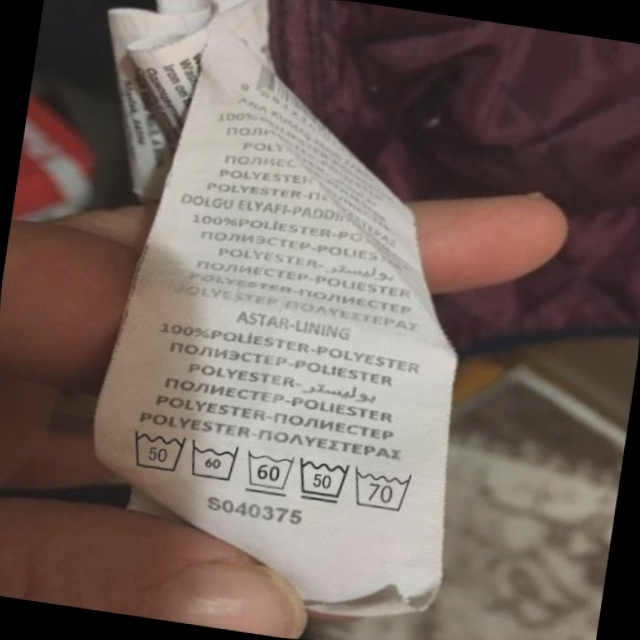50C: (122, 419, 194, 481), (291, 451, 356, 511)
60C: (239, 443, 302, 501), (183, 433, 246, 490)
70C: (348, 461, 421, 518)
